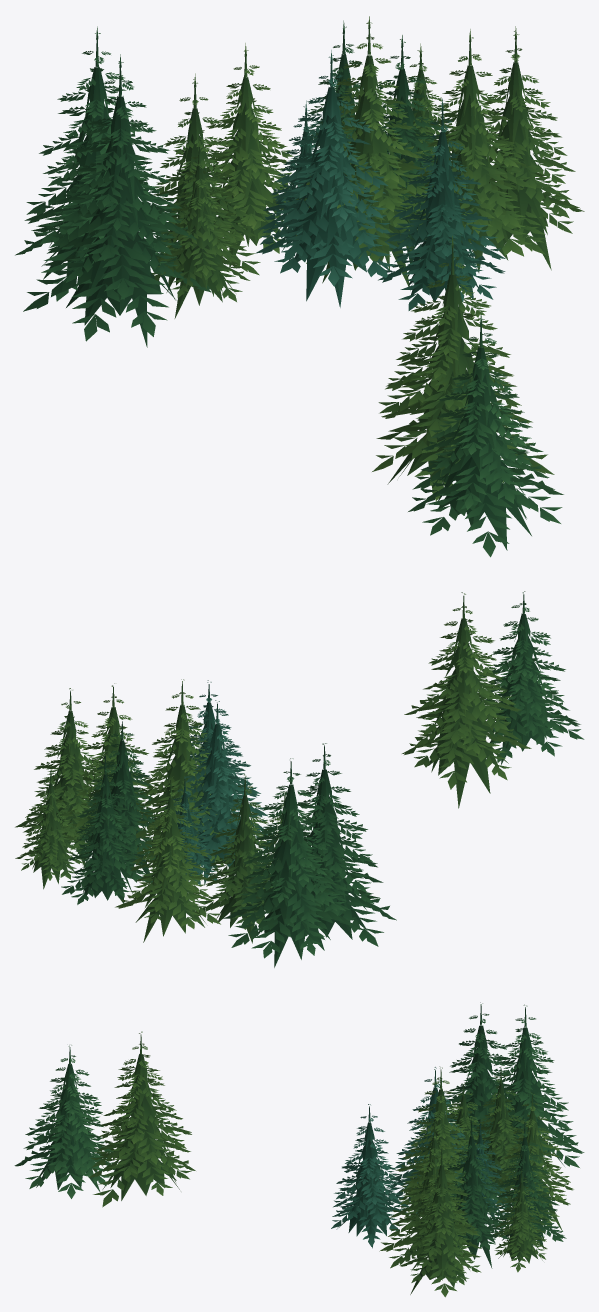
3 renders of one model, top to bottom at view 1: azimuth 30°, elevation 25°; view 2: azimuth 150°, elevation 25°; view 3: azimuth 270°, elevation 25°, orthographic. The views are drawn at different scales.
Parts seen in each view (by area): view 1: pn_28; view 2: pn_28; view 3: pn_28.
Boxes of the visible parts, bbox=[...] form: pn_28: bbox=[15, 16, 584, 557]; pn_28: bbox=[15, 591, 584, 967]; pn_28: bbox=[14, 1002, 584, 1297].
Bounding box in the file's own units: 33.94 × 17.63 × 49.13.
1 material, 1 textured.
